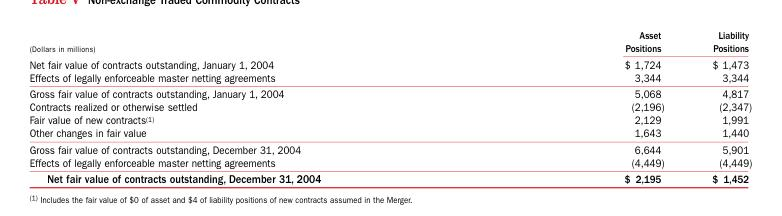table: (28, 28, 751, 184)
table column: (28, 28, 472, 184), (472, 28, 687, 184), (687, 28, 751, 184)
table column header: (28, 28, 751, 55)
table row: (28, 28, 751, 55), (28, 55, 751, 70), (28, 70, 751, 85), (28, 140, 751, 155), (28, 169, 751, 184), (28, 85, 751, 99), (28, 99, 751, 113), (28, 126, 751, 140), (28, 155, 751, 169), (28, 113, 751, 126)
